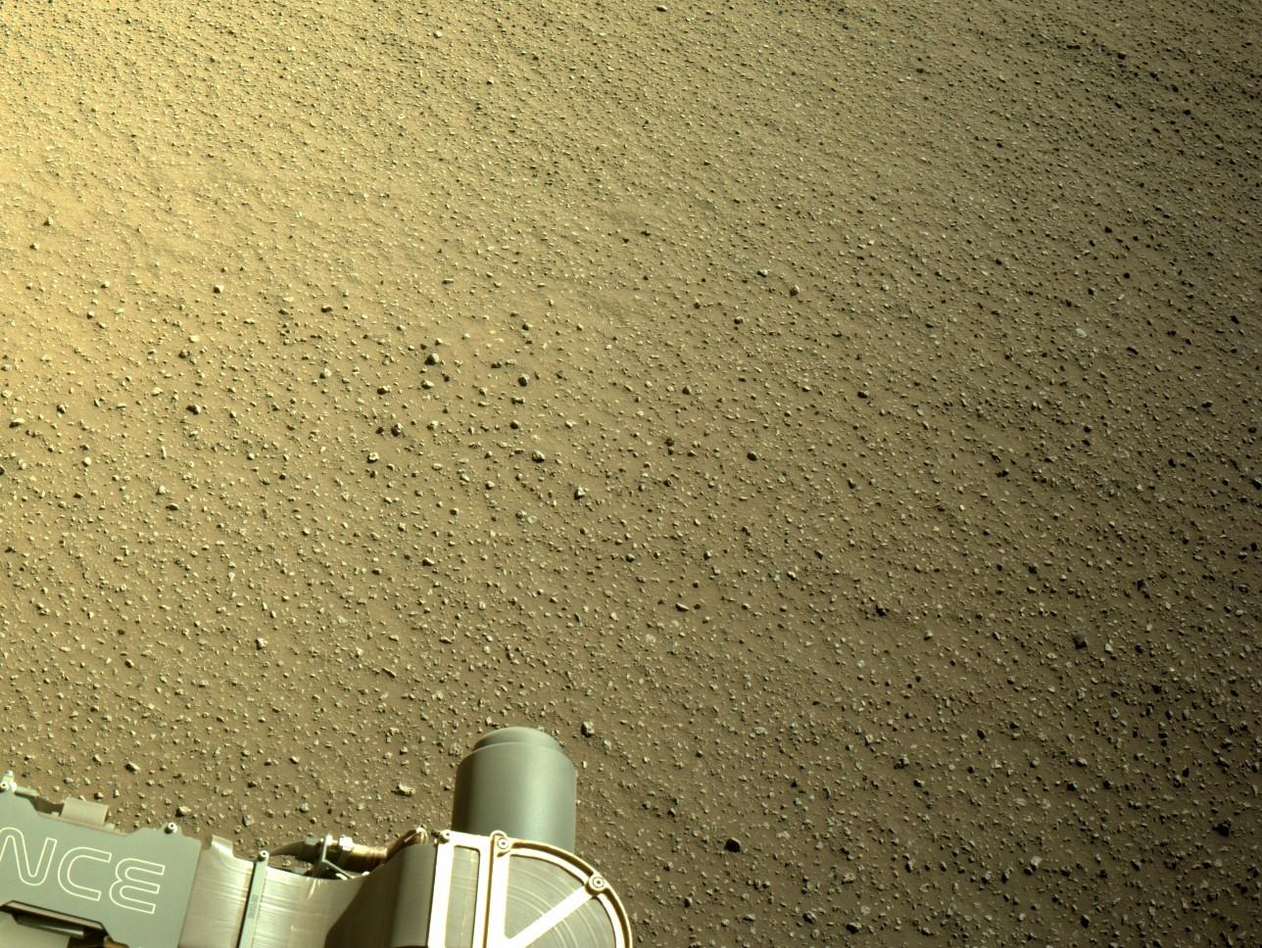soil: (2, 2, 1260, 943)
